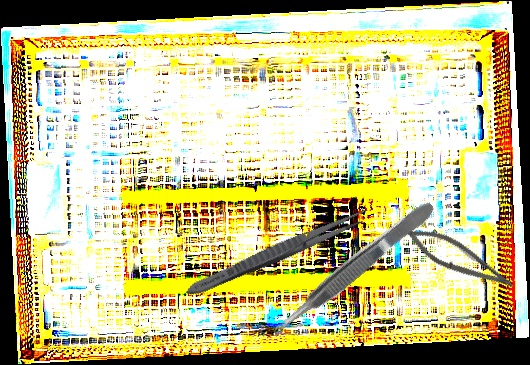Dressing Forceps: (182, 203, 373, 302)
Micro Scissor: (400, 220, 521, 296)
Tissue Forceps: (271, 198, 441, 337)
